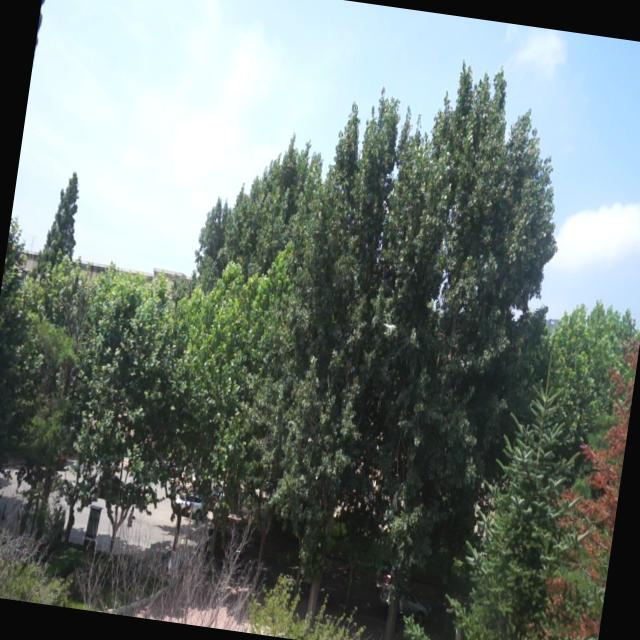drone: (380, 319, 400, 340)
